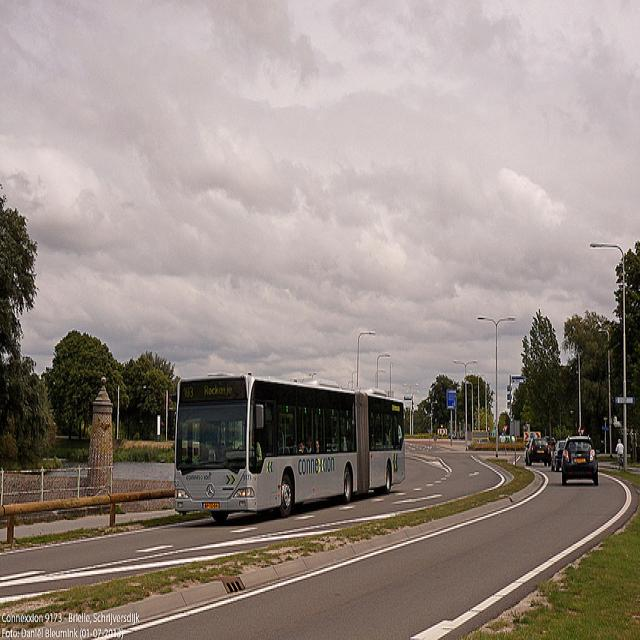Vehicle: (172, 372, 406, 522), (559, 432, 598, 487), (525, 438, 551, 466), (550, 440, 566, 472), (544, 436, 556, 451)
